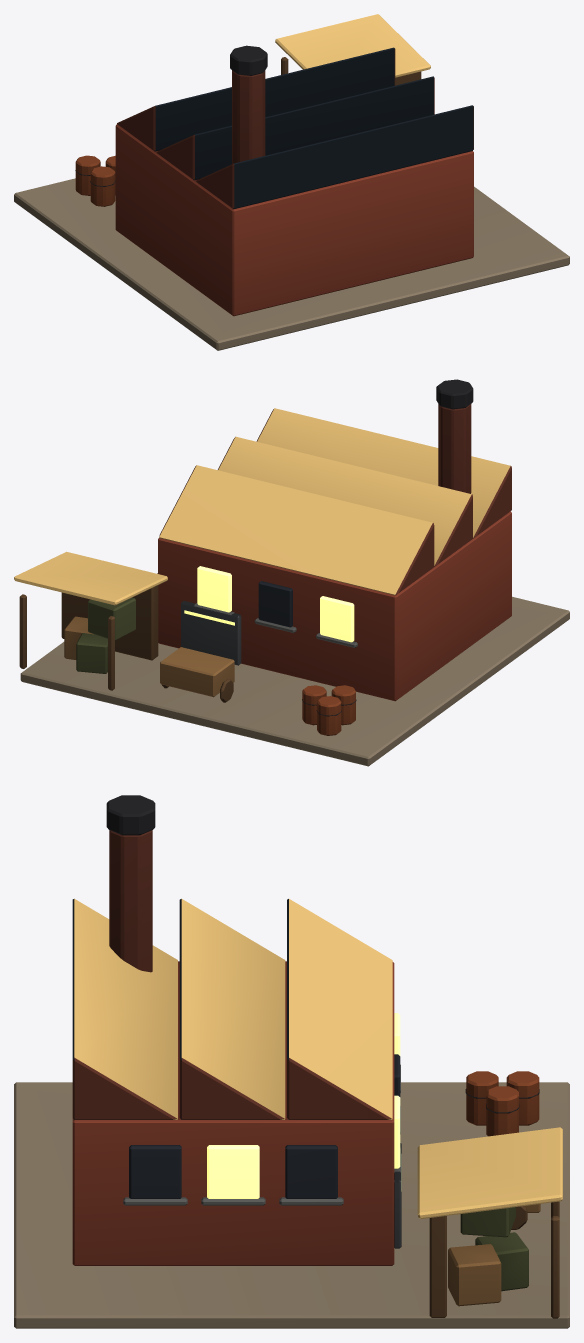
Rendered from workshop.glb.
The picture shows the model from 3 angles, top to bottom: view 1: azimuth 30°, elevation 25°; view 2: azimuth 150°, elevation 25°; view 3: azimuth 270°, elevation 25°; orthographic projection. The views are drawn at different scales.
Visible parts, largest first — view 1: workshop; view 2: workshop; view 3: workshop.
Boxes of the visible parts, left/top/right/bottom form: workshop: left=14, top=14, right=569, bottom=350; workshop: left=14, top=379, right=569, bottom=766; workshop: left=14, top=795, right=569, bottom=1328.
Size of the model in its own units: 1.95 by 1.28 by 1.9.
